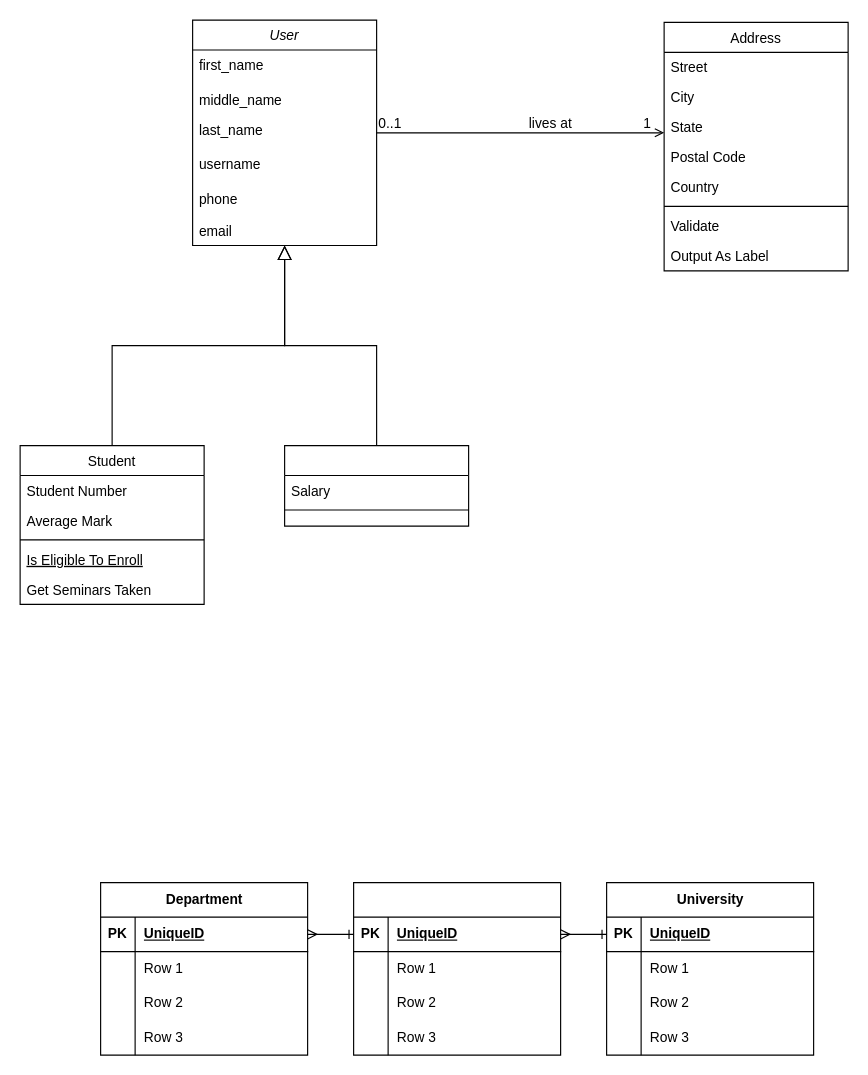
Some shapes in this 868 by 1075 pixel diagram are drawn without their labels. Here are the shapes that lost their labels. From the top down, the box of each, then its label:
(283, 444, 469, 526): Staff
(352, 881, 561, 1055): Faculty
